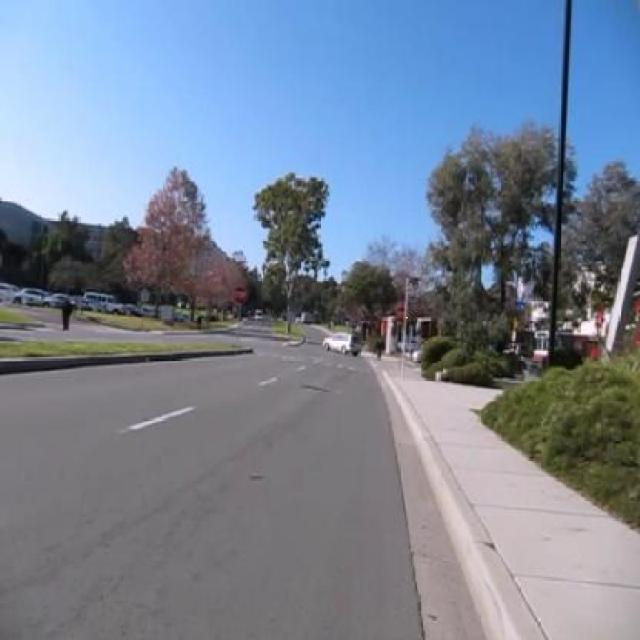stop: (230, 283, 248, 305), (394, 304, 410, 324)
